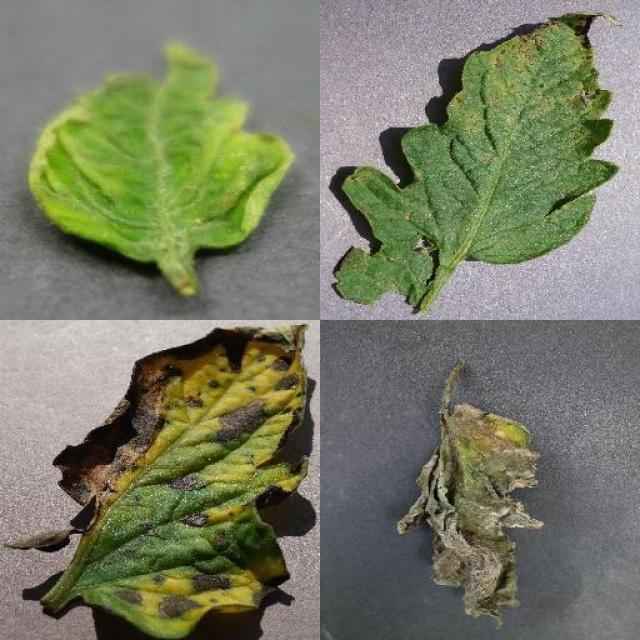Early Blight: (50, 321, 309, 640)
Late Blight: (398, 400, 542, 628)
Septoria: (325, 10, 620, 304)
